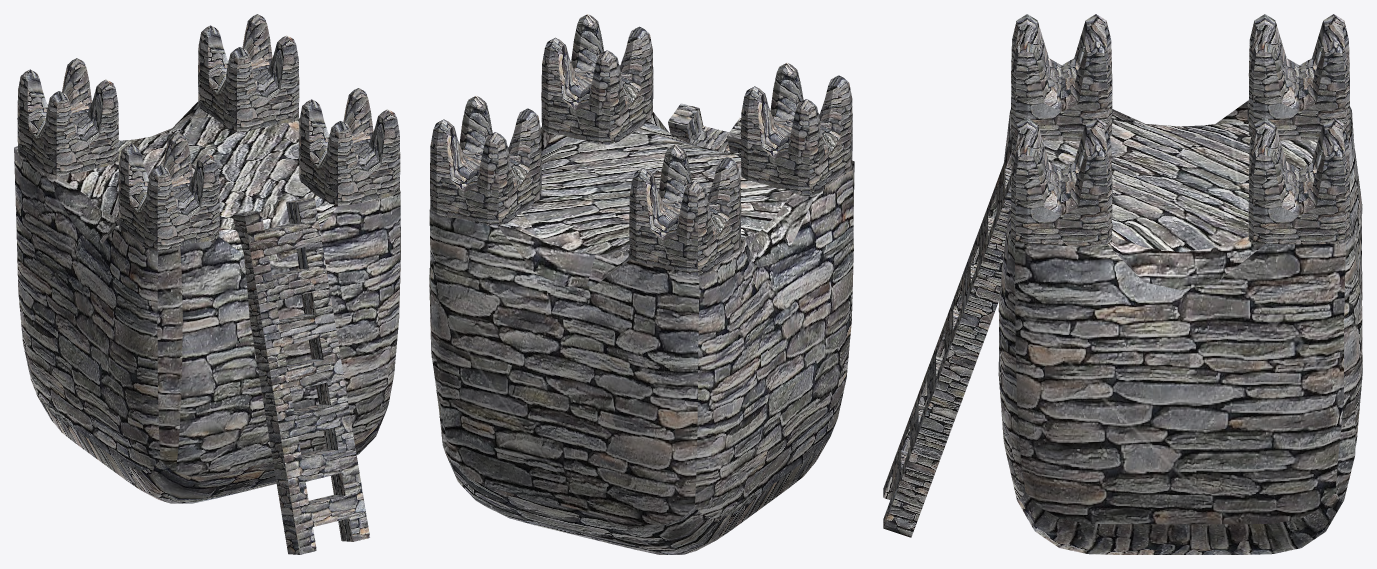
Rendered from TorrettaLaterale.fbx.
The picture shows the model from 3 angles, left to right: view 1: azimuth 30°, elevation 25°; view 2: azimuth 150°, elevation 25°; view 3: azimuth 270°, elevation 25°; orthographic projection. The views are drawn at different scales.
Visible parts, largest first — view 1: TorrettaUnita; view 2: TorrettaUnita; view 3: TorrettaUnita.
Boxes of the visible parts, bbox=[...] form: TorrettaUnita: bbox=[14, 14, 400, 554]; TorrettaUnita: bbox=[429, 14, 854, 554]; TorrettaUnita: bbox=[883, 14, 1362, 554].
Bounding box in the file's own units: 195 × 260 × 258.
